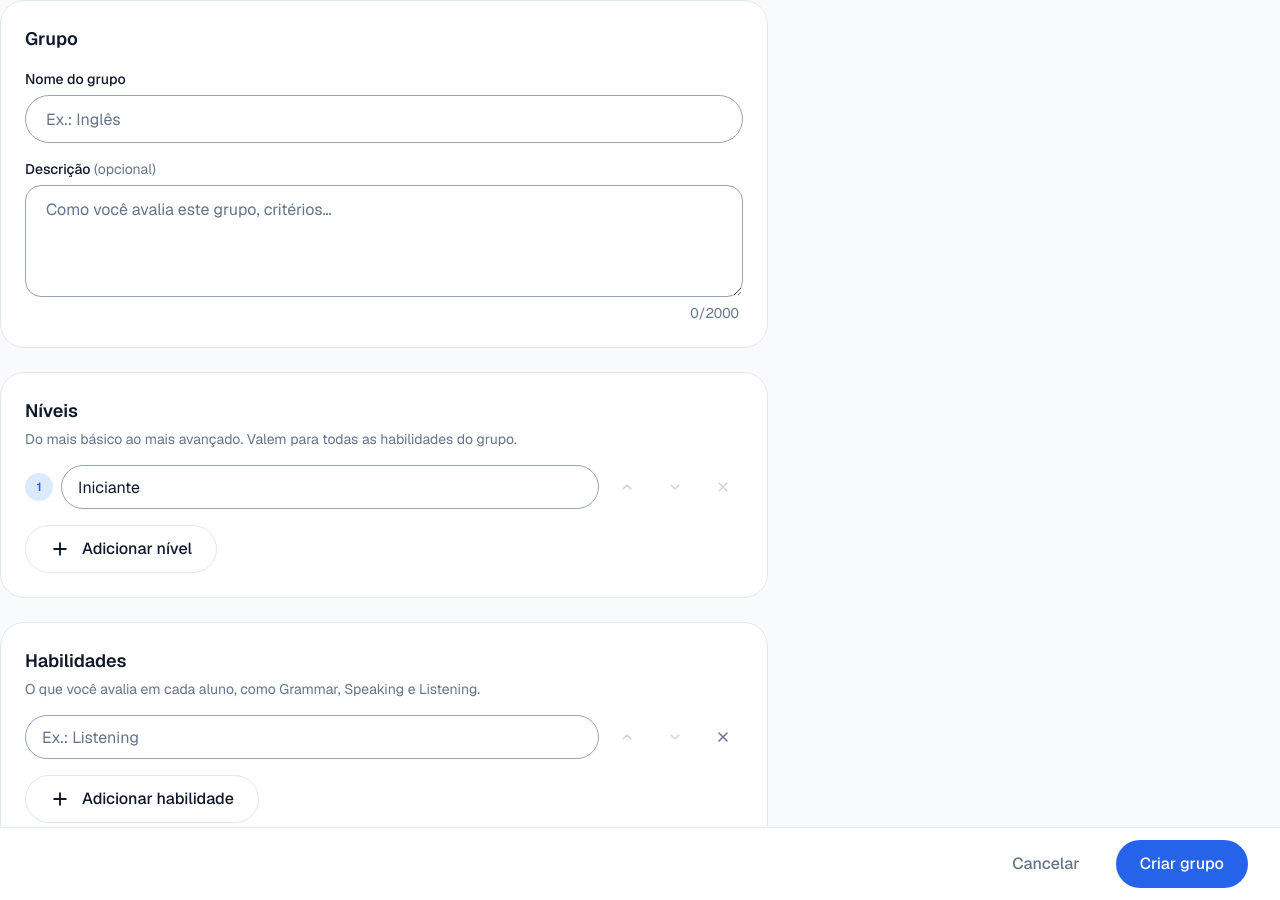
SkillGroupEditor › blocks a duplicated group name and keeps the last level
Check: the button named "Remover Iniciante" is disabled, box 703,467 -> 743,507
Type "inglês" into the field labelled "Nome do grupo" at (384, 119), box 25,95 -> 743,143
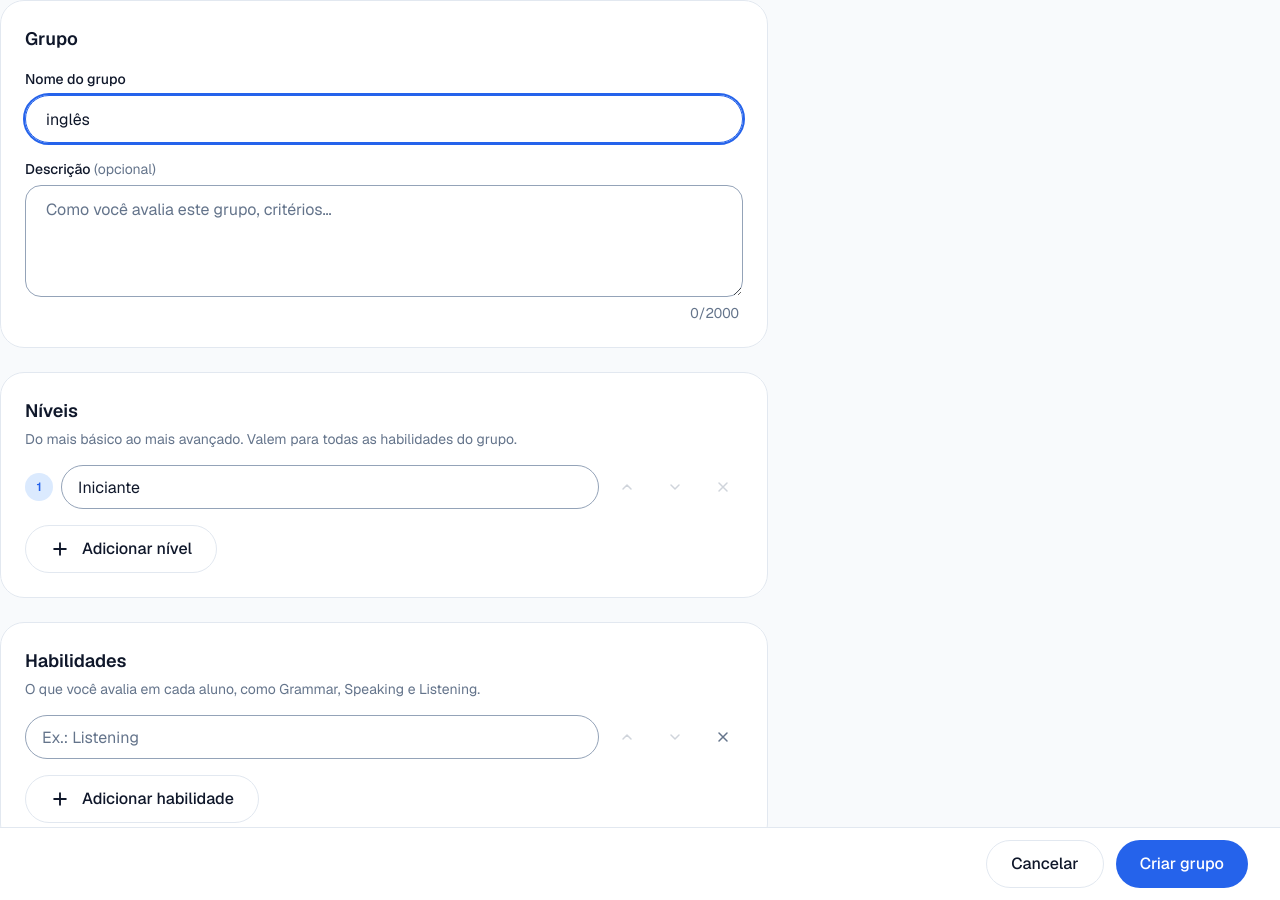
Click the button "Criar grupo" at (1182, 864), box 1116,840 -> 1248,888
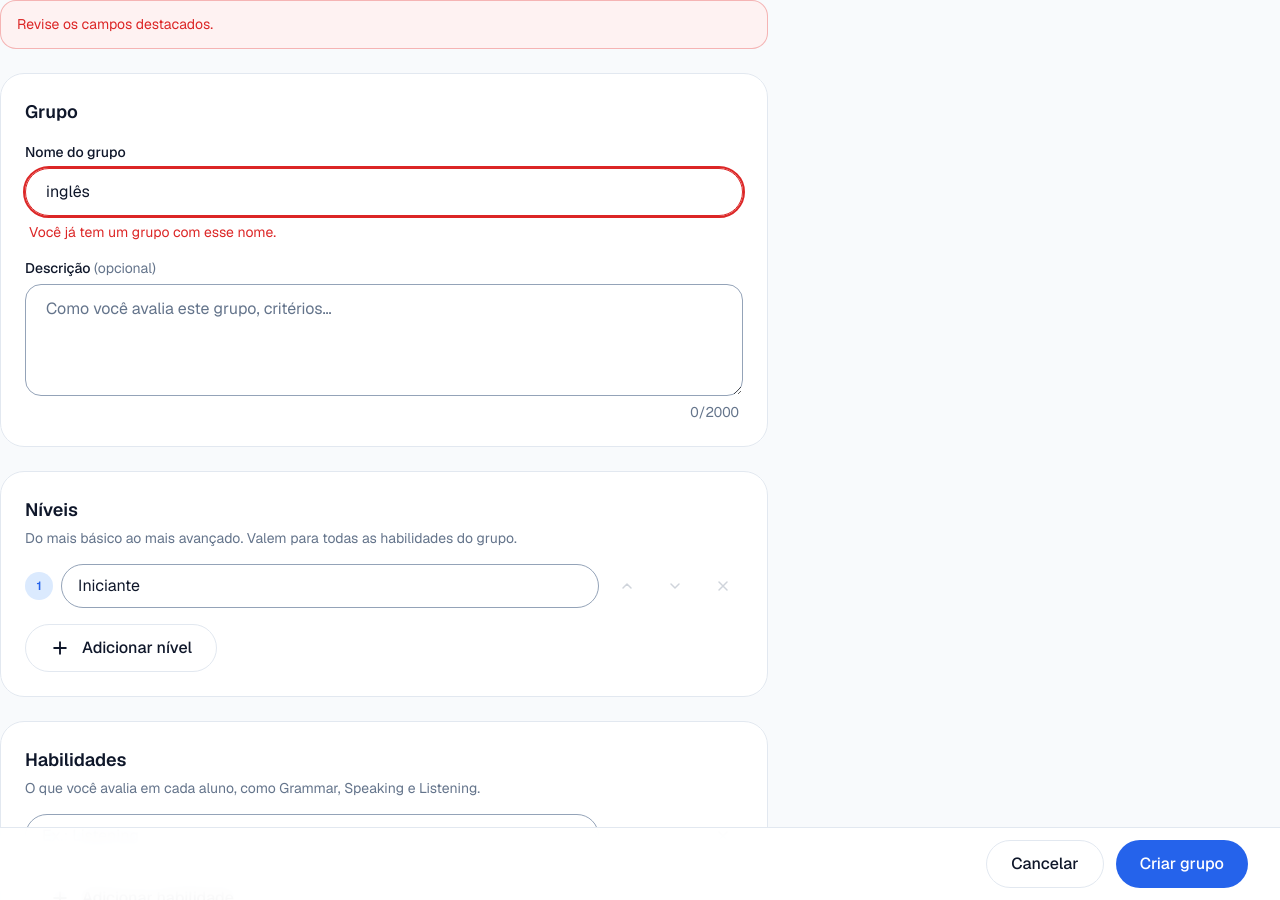
Check: the text "Você já tem um grupo com esse nome." is shown, box 29,223 -> 276,241
